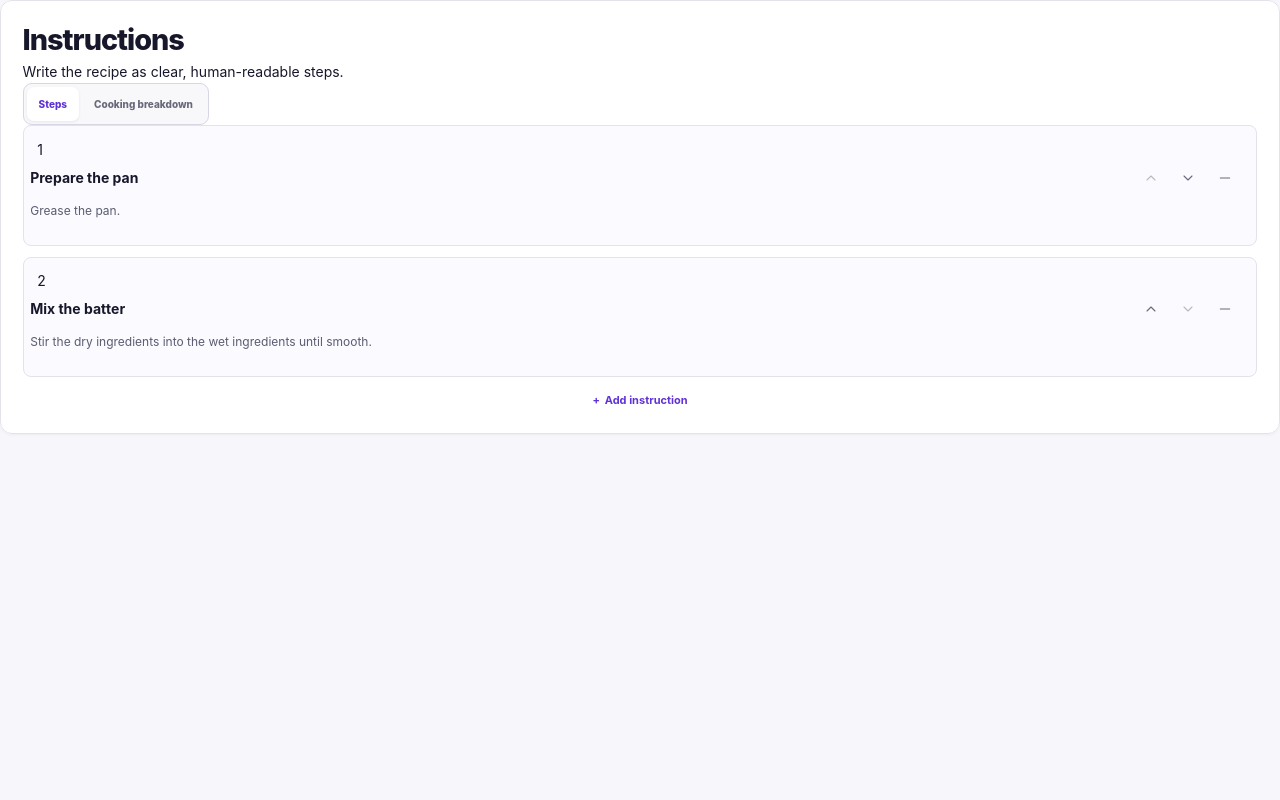
Test: RecipeDraftInstructionsSection › centers the text-only add instruction control below the steps
The width and height of the screenshot is (1280, 800).
Click the button "Add instruction": (640, 400) x1=592 y1=389 x2=688 y2=412
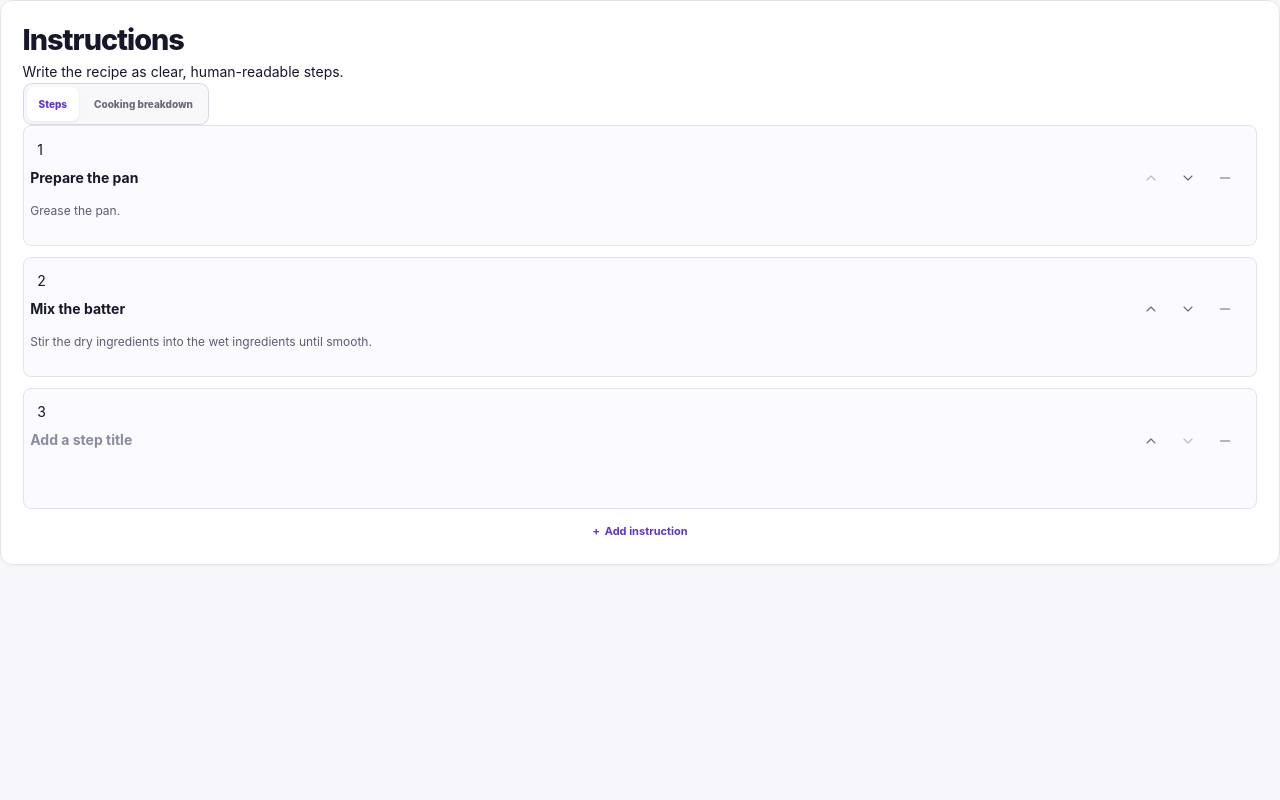
expect the 5th element named "Step 3" is shown: met, box x1=37 y1=423 x2=1243 y2=494
